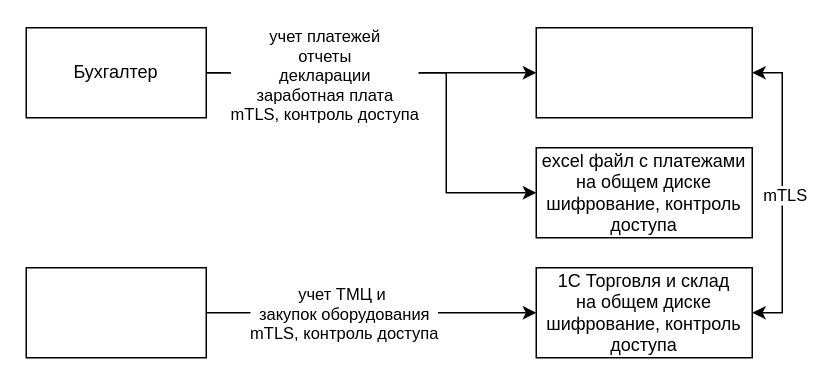
The diagram is 833 pixels wide and 384 high, and some of its shapes have lost their labels. Here are the shapes that lost their labels. From the top down, the centre of each, then its label:
At [643,72]: "1С Бухгалтерия на общем диске шифрование, контроль доступа".
At [115,312]: "Кладовщик".
